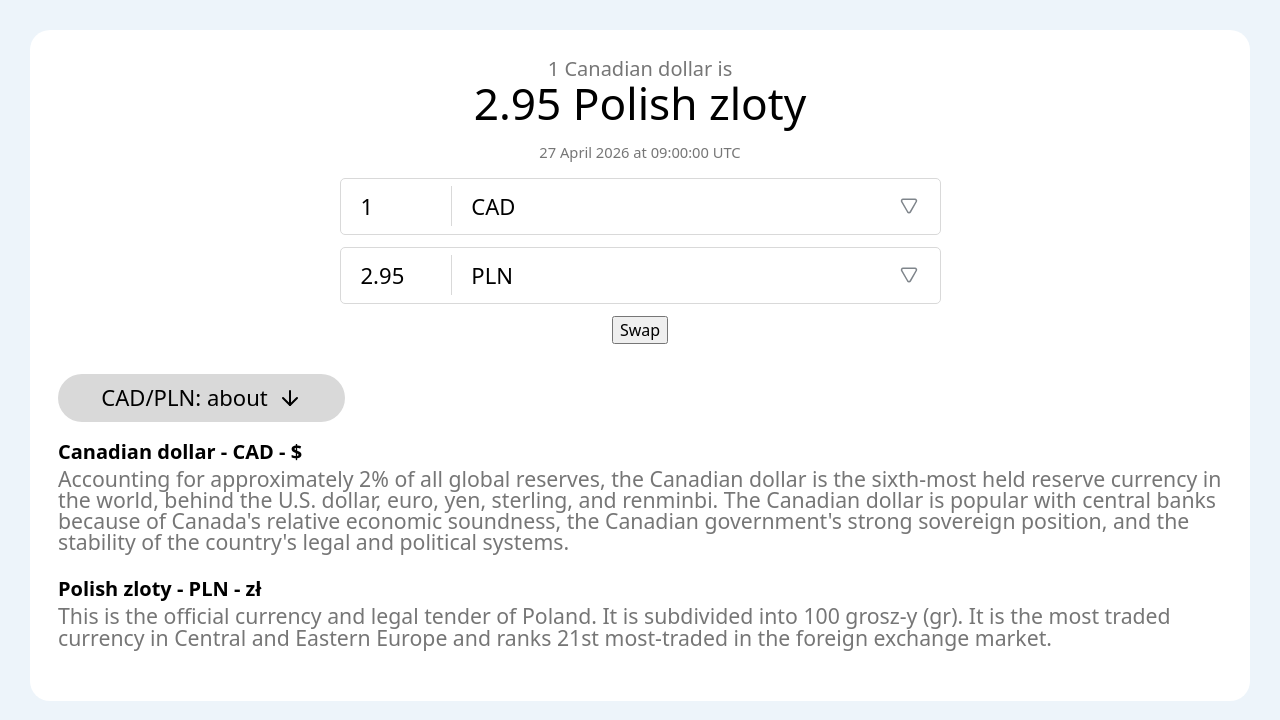
Test: Currency converter › ResetMoreAboutChildStateByKeyWhenPairChanges
Click the button "CAD/PLN: about". click: [202, 398]
box: [58,374,345,422]
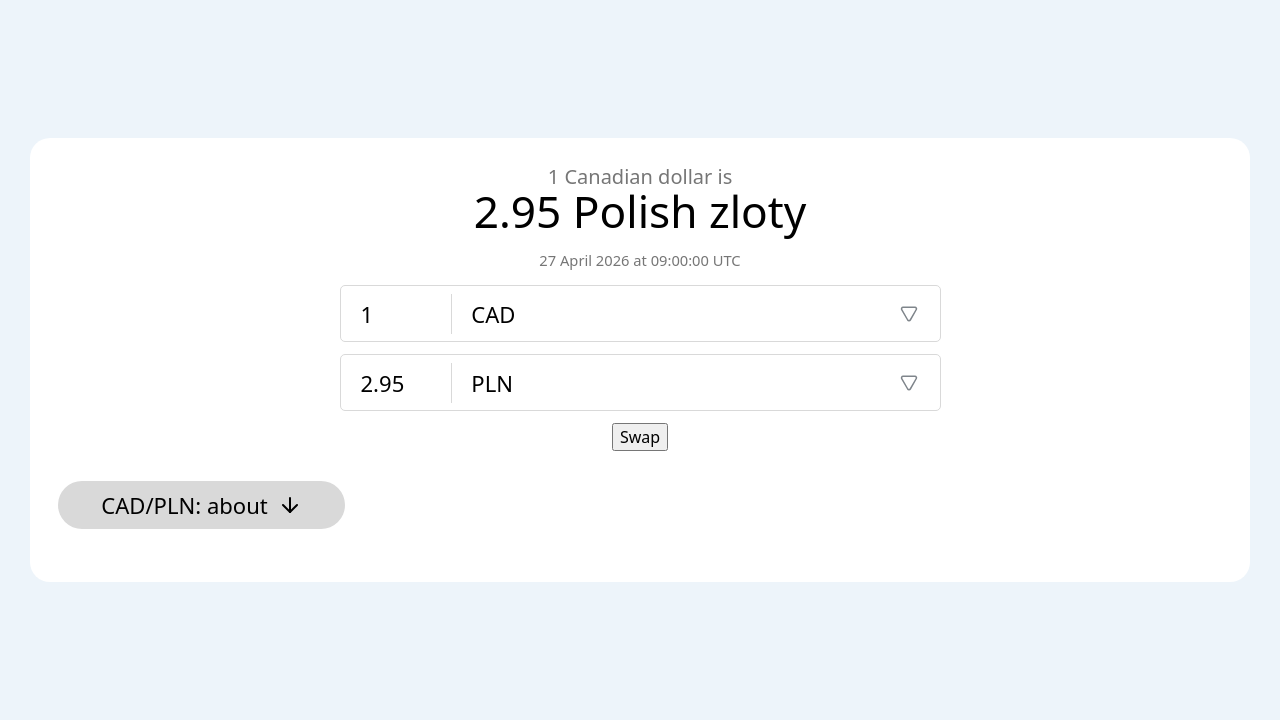
Expected: the text "Canadian dollar - CAD - $" is gone
Select "JPY" in the dropdown with id "to-input-currency-select". click: [695, 383]
box: [451,355,940,410]
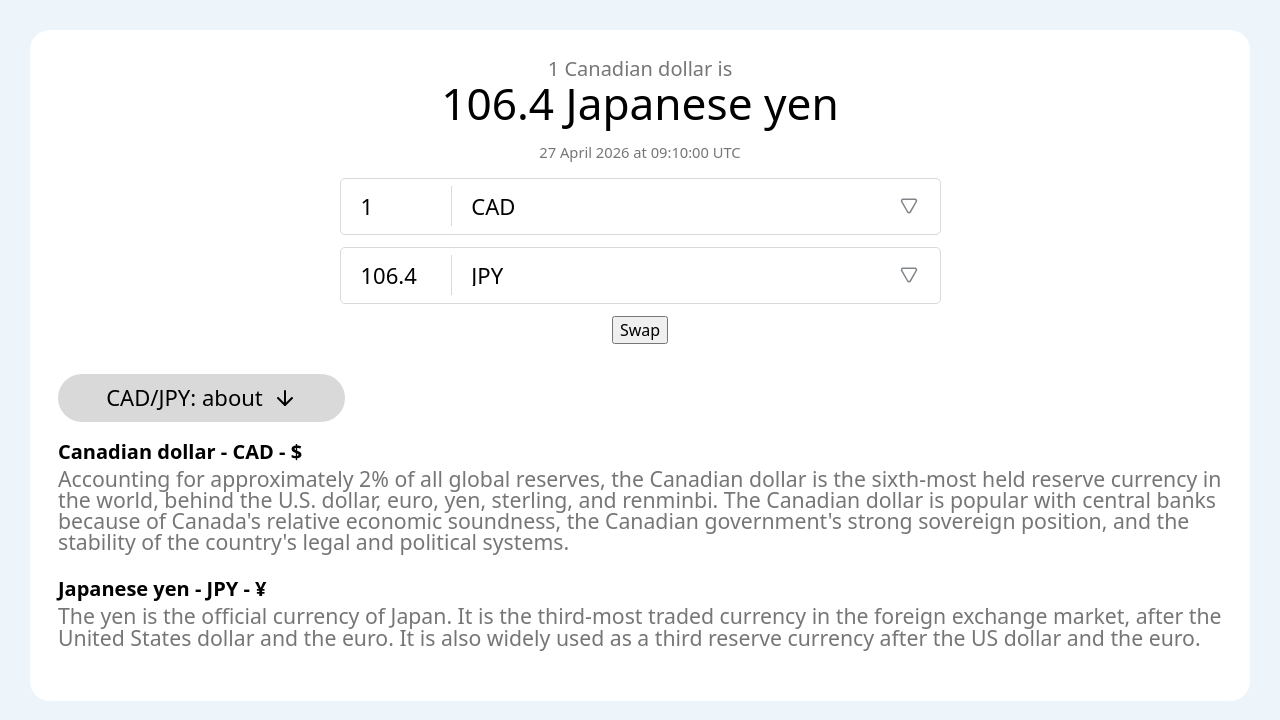
Expected: the button "CAD/JPY: about" is shown, [58,374,345,422]
Expected: the text "Canadian dollar - CAD - $" is shown, [58,438,302,464]
Expected: the text "Japanese yen - JPY - ¥" is shown, [58,576,266,602]
